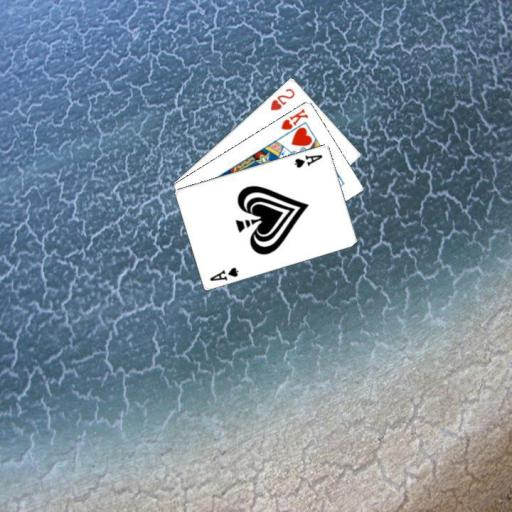2H: (268, 85, 297, 112)
AS: (207, 264, 240, 282), (292, 151, 324, 169)
KH: (278, 105, 310, 131)
